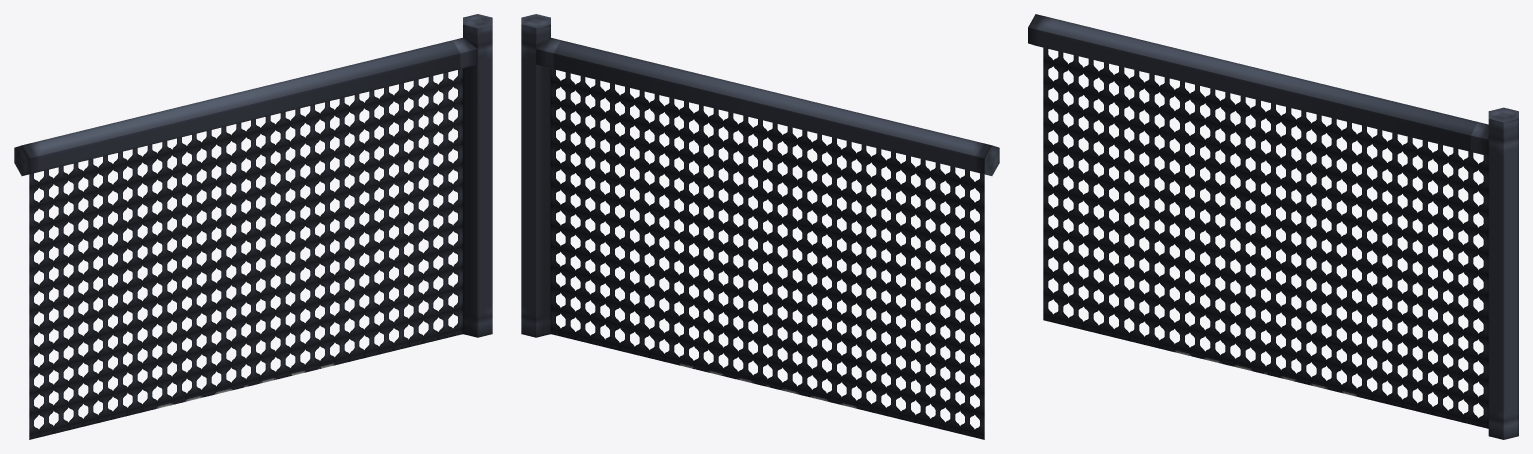
The model's file is Fence_Open.fbx.
3 views of the same model, side by side, from view 1: azimuth 30°, elevation 25°; view 2: azimuth 150°, elevation 25°; view 3: azimuth 330°, elevation 25° (orthographic). The views are drawn at different scales.
Visible parts, largest first — view 1: Fence_Open; view 2: Fence_Open; view 3: Fence_Open.
Part boxes in pixels (x1,y1,x2,y2): Fence_Open: (14, 14, 492, 439); Fence_Open: (521, 14, 999, 439); Fence_Open: (1028, 14, 1518, 439).
Bounding box in the file's own units: 23.89 × 15 × 1.3.
